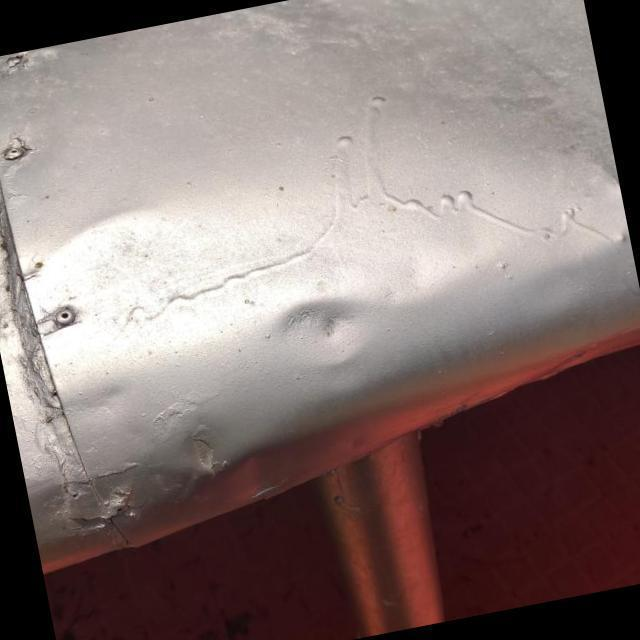Dent: (128, 376, 301, 539), (242, 248, 396, 412)
